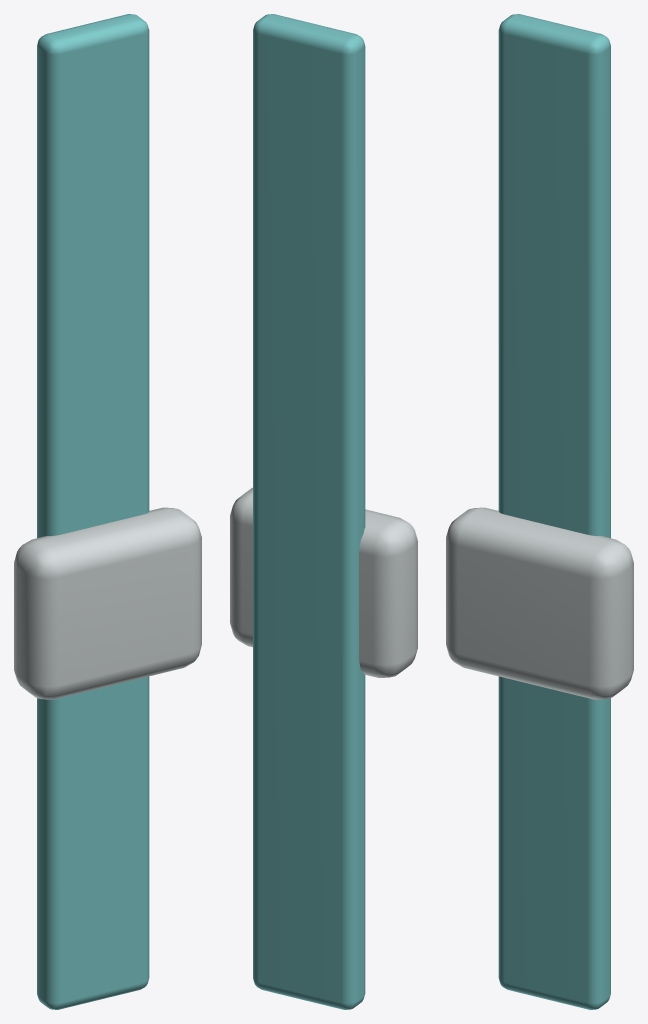
Rendered from SafetyStrap.fbx.
3 views of the same model, side by side, from view 1: azimuth 30°, elevation 25°; view 2: azimuth 150°, elevation 25°; view 3: azimuth 330°, elevation 25° (orthographic).
Parts seen in each view (by area): view 1: Webbing, Buckle; view 2: Webbing, Buckle; view 3: Webbing, Buckle.
Part boxes in pixels (left/top/right/bottom): Webbing: left=37, top=14, right=149, bottom=1009; Buckle: left=14, top=507, right=201, bottom=699; Webbing: left=253, top=14, right=365, bottom=1009; Buckle: left=230, top=487, right=417, bottom=677; Webbing: left=498, top=14, right=610, bottom=1009; Buckle: left=446, top=507, right=633, bottom=699.
Size of the model in its own units: 6.7 by 36 by 2.7.
